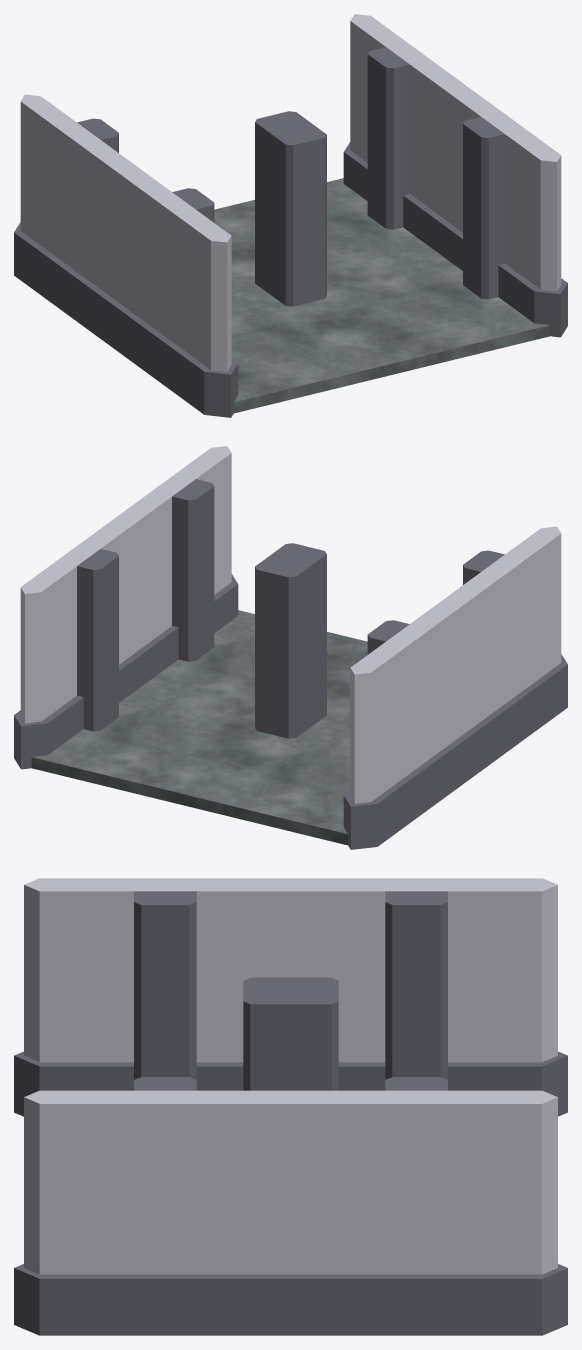
The model's file is hallway_03.fbx.
The picture shows the model from 3 angles, top to bottom: view 1: azimuth 30°, elevation 25°; view 2: azimuth 150°, elevation 25°; view 3: azimuth 270°, elevation 25°; orthographic projection. The views are drawn at different scales.
Parts seen in each view (by area): view 1: floor_01_11, wall_02_13, wall_02_15, wall_02_12, wall_02_14, pillar_01_17; view 2: floor_01_11, wall_02_12, wall_02_14, wall_02_13, wall_02_15, pillar_01_17; view 3: wall_02_14, wall_02_15, wall_02_12, wall_02_13, pillar_01_17.
Part boxes in pixels (x1,y1,x2,y2): floor_01_11: [214, 178, 550, 413]; wall_02_13: [109, 165, 238, 417]; wall_02_15: [439, 84, 567, 337]; wall_02_12: [14, 94, 135, 344]; wall_02_14: [343, 14, 465, 253]; pillar_01_17: [255, 111, 326, 306]; floor_01_11: [31, 610, 367, 845]; wall_02_12: [343, 596, 472, 849]; wall_02_14: [14, 516, 142, 769]; wall_02_13: [446, 526, 567, 776]; wall_02_15: [116, 446, 238, 685]; pillar_01_17: [255, 543, 326, 738]; wall_02_14: [276, 1077, 567, 1335]; wall_02_15: [14, 1077, 304, 1335]; wall_02_12: [276, 878, 567, 1116]; wall_02_13: [14, 878, 305, 1116]; pillar_01_17: [243, 977, 338, 1090].
Size of the model in its own units: 22.05 by 10 by 22.05.
